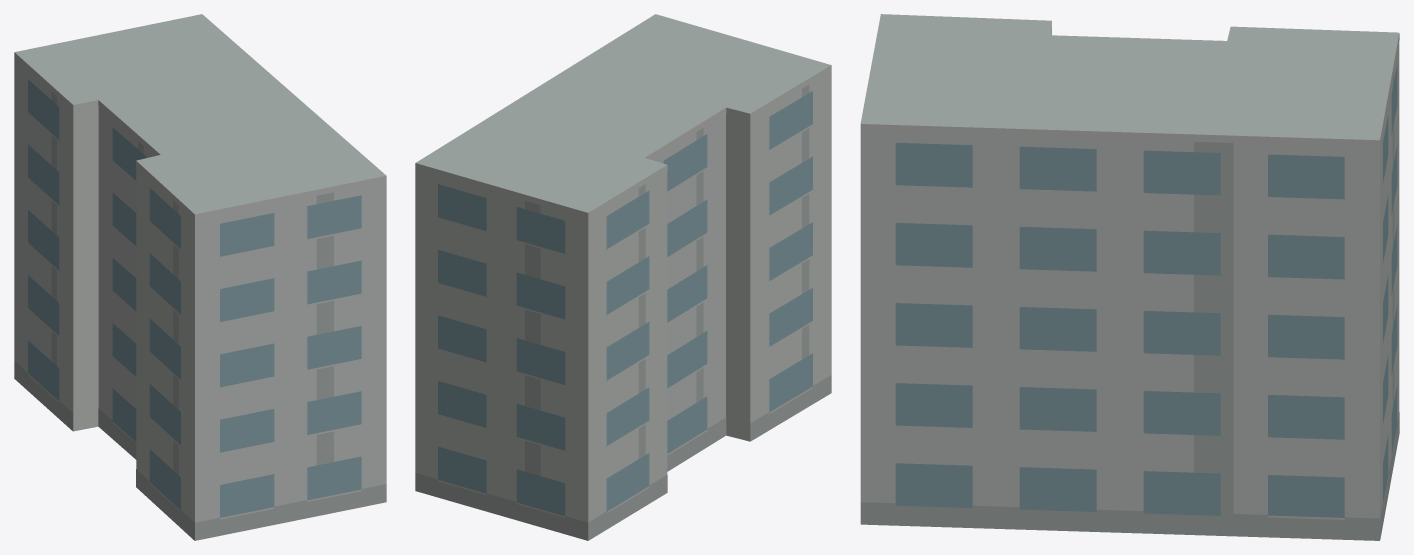
The model's file is survey-upis-32750287.glb.
The picture shows the model from 3 angles, left to right: view 1: azimuth 30°, elevation 25°; view 2: azimuth 150°, elevation 25°; view 3: azimuth 270°, elevation 25°; orthographic projection. The views are drawn at different scales.
Visible parts, largest first — view 1: survey-upis-32750287.tmp; view 2: survey-upis-32750287.tmp; view 3: survey-upis-32750287.tmp.
Part boxes in pixels (x1,y1,x2,y2): survey-upis-32750287.tmp: (14,14,386,540); survey-upis-32750287.tmp: (415,14,831,540); survey-upis-32750287.tmp: (860,14,1399,540).
Bounding box in the file's own units: 9 × 13.3 × 16.23.
